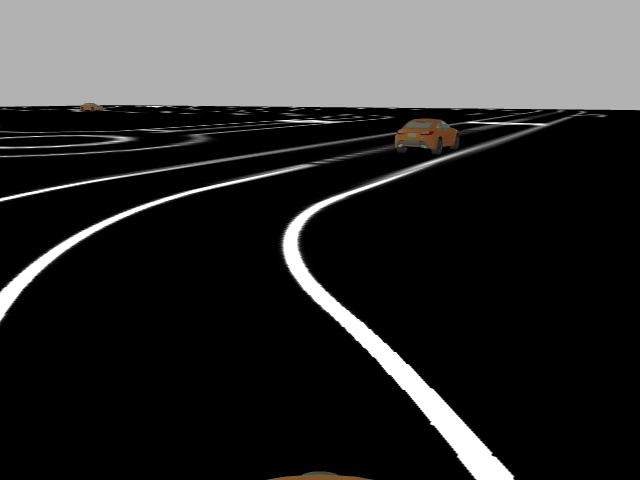obstacle_car: (391, 117, 464, 153)
